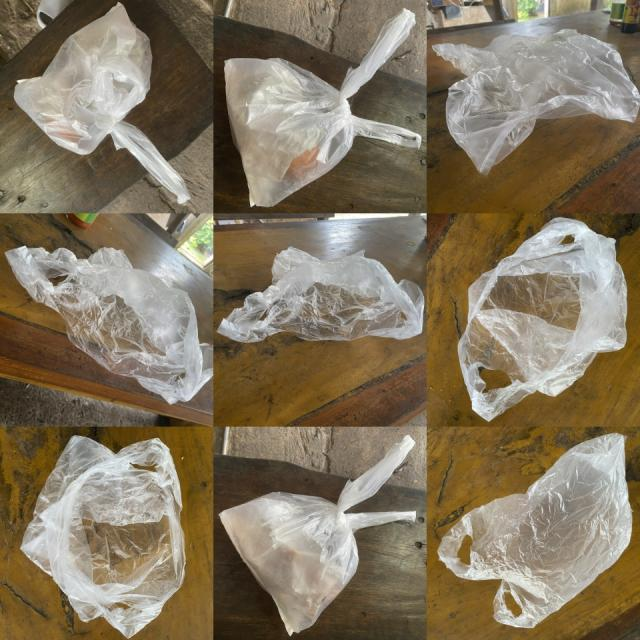Single-layer Plastic: (220, 435, 416, 634), (225, 9, 421, 206), (438, 434, 632, 628), (14, 4, 190, 203), (458, 218, 628, 421), (21, 436, 185, 638), (6, 246, 212, 404), (432, 29, 640, 175), (218, 246, 424, 342)
